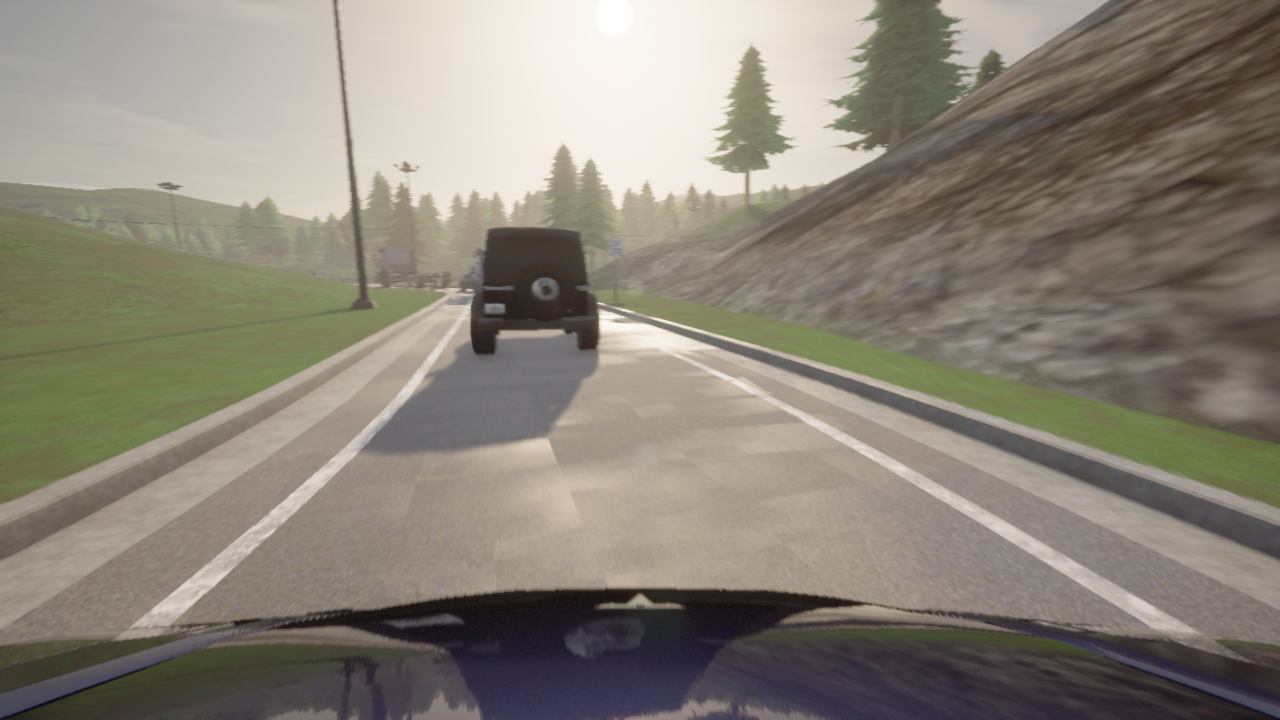cyclist: (0, 588, 1279, 719), (470, 227, 599, 354), (372, 248, 452, 288), (470, 248, 485, 291), (304, 270, 344, 282), (459, 272, 476, 292)
